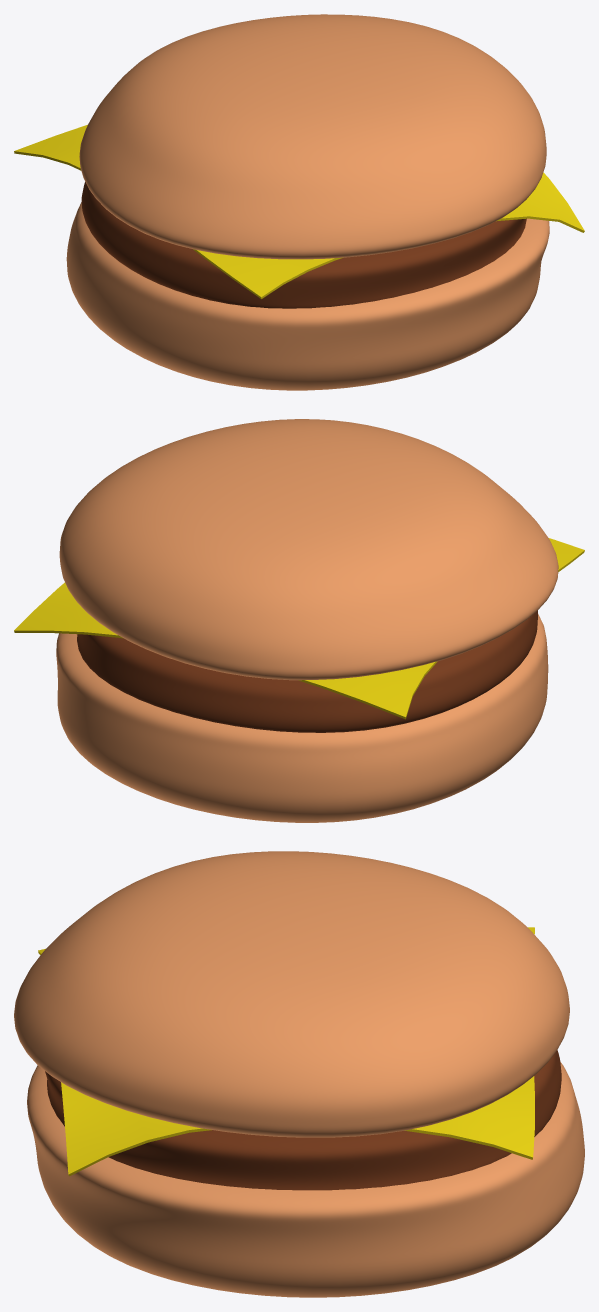
Rendered from Hamburger1.glb.
3 renders of one model, top to bottom at view 1: azimuth 30°, elevation 25°; view 2: azimuth 150°, elevation 25°; view 3: azimuth 270°, elevation 25°, orthographic. The views are drawn at different scales.
Visible parts, largest first — view 1: Cubo.002, Cubo, Cubo.001, Plano; view 2: Cubo.002, Cubo, Cubo.001, Plano; view 3: Cubo.002, Cubo, Cubo.001, Plano.
Boxes of the visible parts, box(x1,y1,x2,y2) form: Cubo.002: box(79, 14, 546, 259); Cubo: box(66, 202, 549, 390); Cubo.001: box(81, 182, 526, 308); Plano: box(14, 124, 584, 298); Cubo.002: box(59, 419, 558, 680); Cubo: box(56, 614, 548, 822); Cubo.001: box(77, 610, 537, 732); Plano: box(14, 538, 584, 719); Cubo.002: box(14, 851, 569, 1137); Cubo: box(27, 1062, 584, 1297); Cubo.001: box(45, 1050, 561, 1190); Plano: box(38, 927, 534, 1176).
Bounding box in the file's own units: 4.28 × 2.65 × 4.36.
